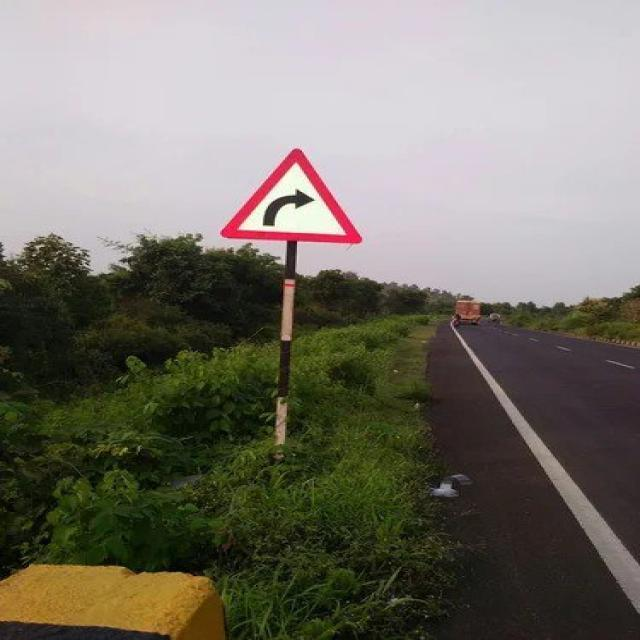right hand curve: (219, 148, 359, 246)
